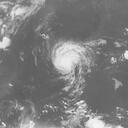cyclone: (51, 38, 91, 77)
